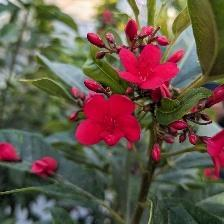jatropha: (77, 93, 145, 149), (121, 43, 183, 91)
